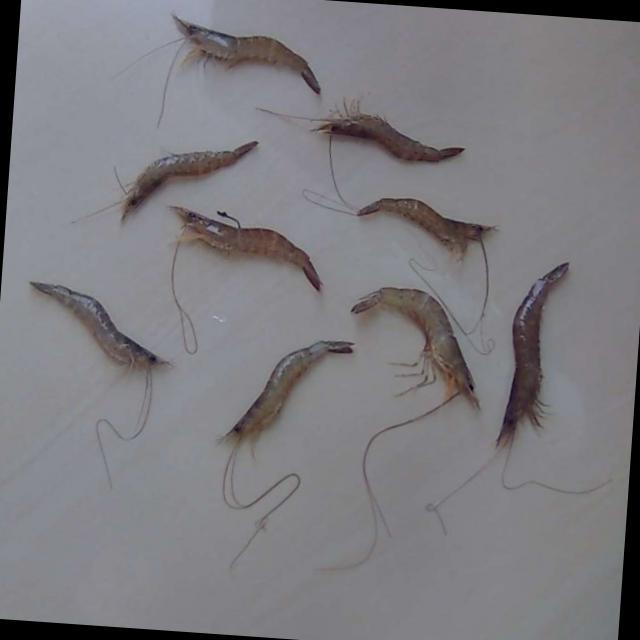shrimp: (352, 287, 480, 407), (220, 340, 354, 441), (498, 262, 570, 447), (172, 208, 323, 290), (172, 12, 321, 92), (30, 283, 169, 367), (122, 141, 259, 221), (358, 198, 496, 253), (317, 112, 465, 161)
